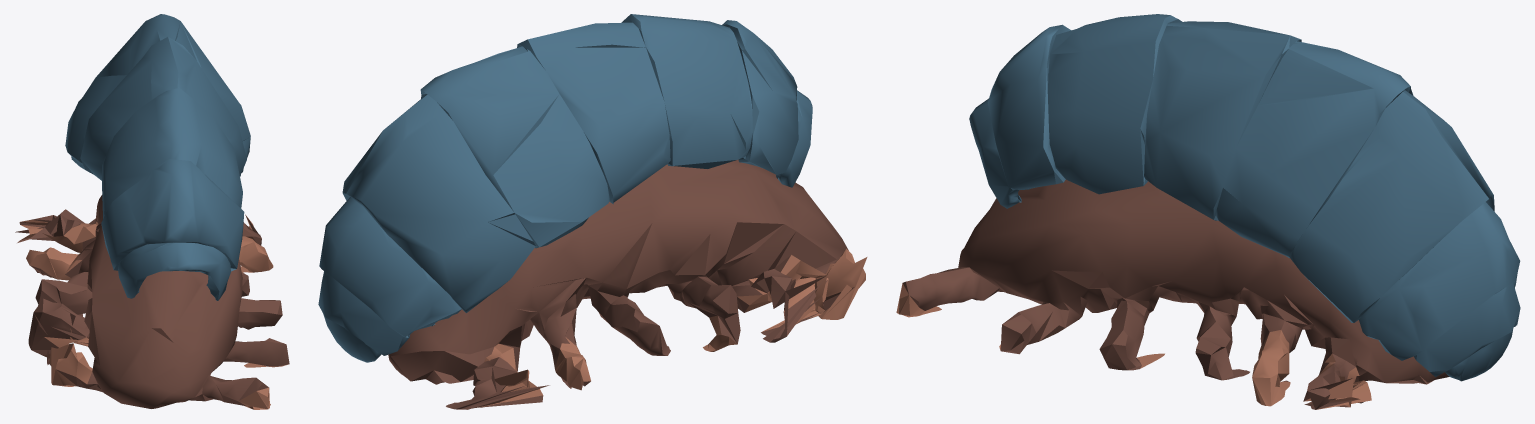
The model's file is big-spitter-corpse-3.glb.
3 renders of one model, left to right at view 1: azimuth 30°, elevation 25°; view 2: azimuth 150°, elevation 25°; view 3: azimuth 270°, elevation 25°, orthographic. The views are drawn at different scales.
Parts seen in each view (by area): view 1: body; view 2: body; view 3: body.
Boxes of the visible parts, x1=… form: body: x1=15, y1=14, x2=289, y2=409; body: x1=318, y1=14, x2=867, y2=409; body: x1=896, y1=14, x2=1520, y2=409.
Bounding box in the file's own units: 2.41 × 1.81 × 3.28.
